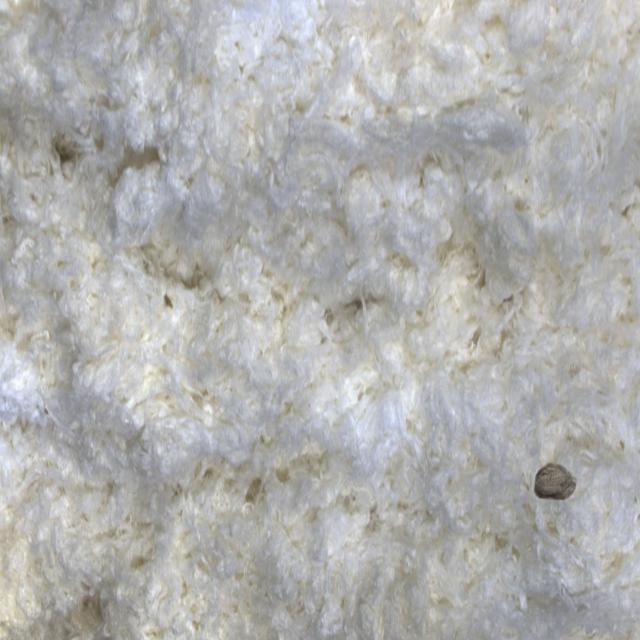dust: (513, 402, 611, 541)
